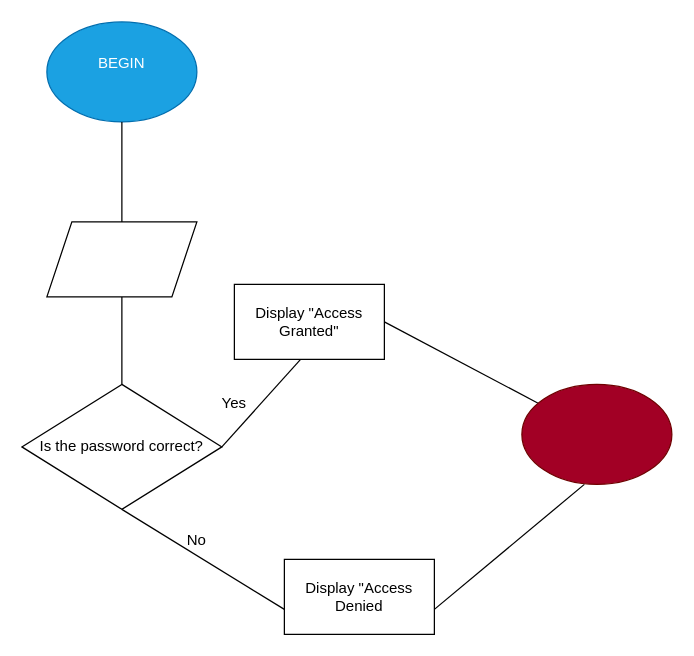
The diagram is 694 pixels wide and 656 high, and some of its shapes have lost their labels. Here are the shapes that lost their labels. From the top down, the centre of each, then its label:
At [121,259]: "Input Please enter your pin".
At [596,433]: "END".
